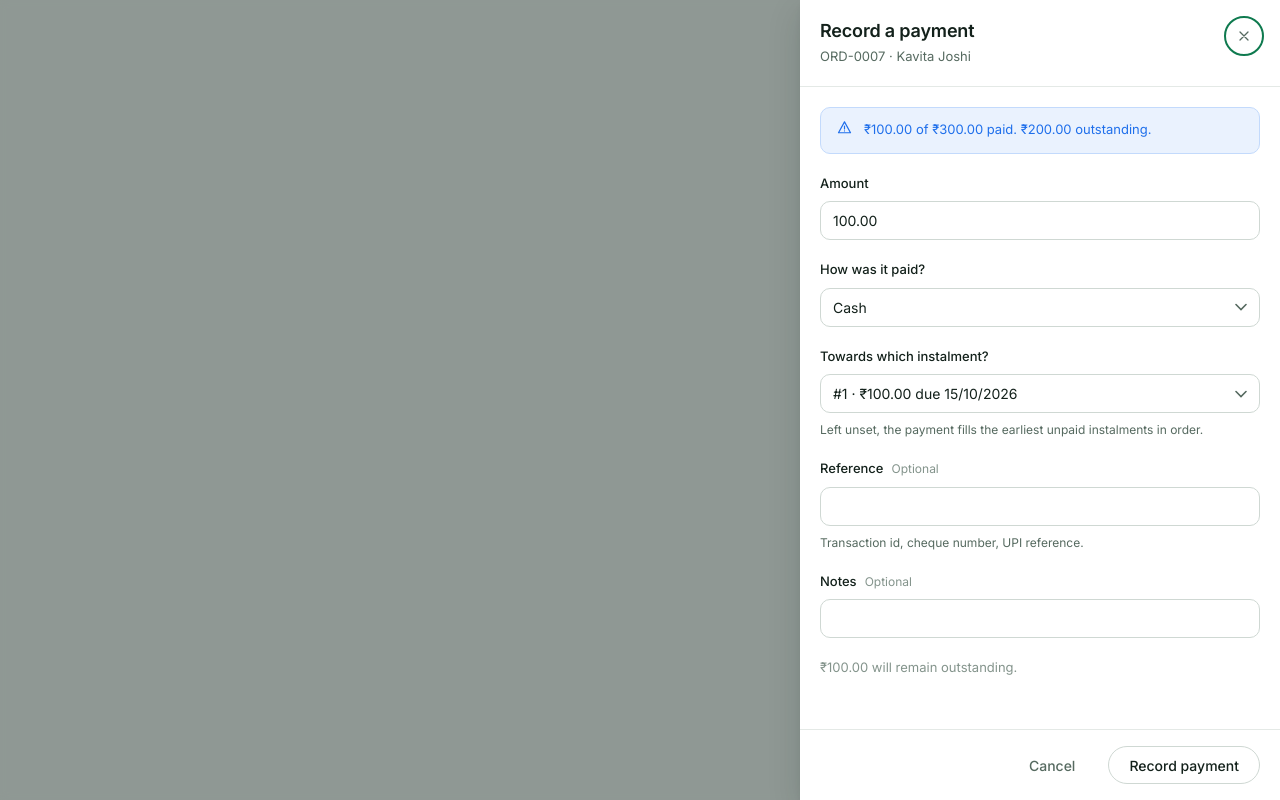
Scenario: OrderPaymentDrawer › warns when the amount exceeds what the chosen instalment owes
Replace the text in the field labelled "Amount" with "150" at (1040, 220), box [820,201,1260,240]
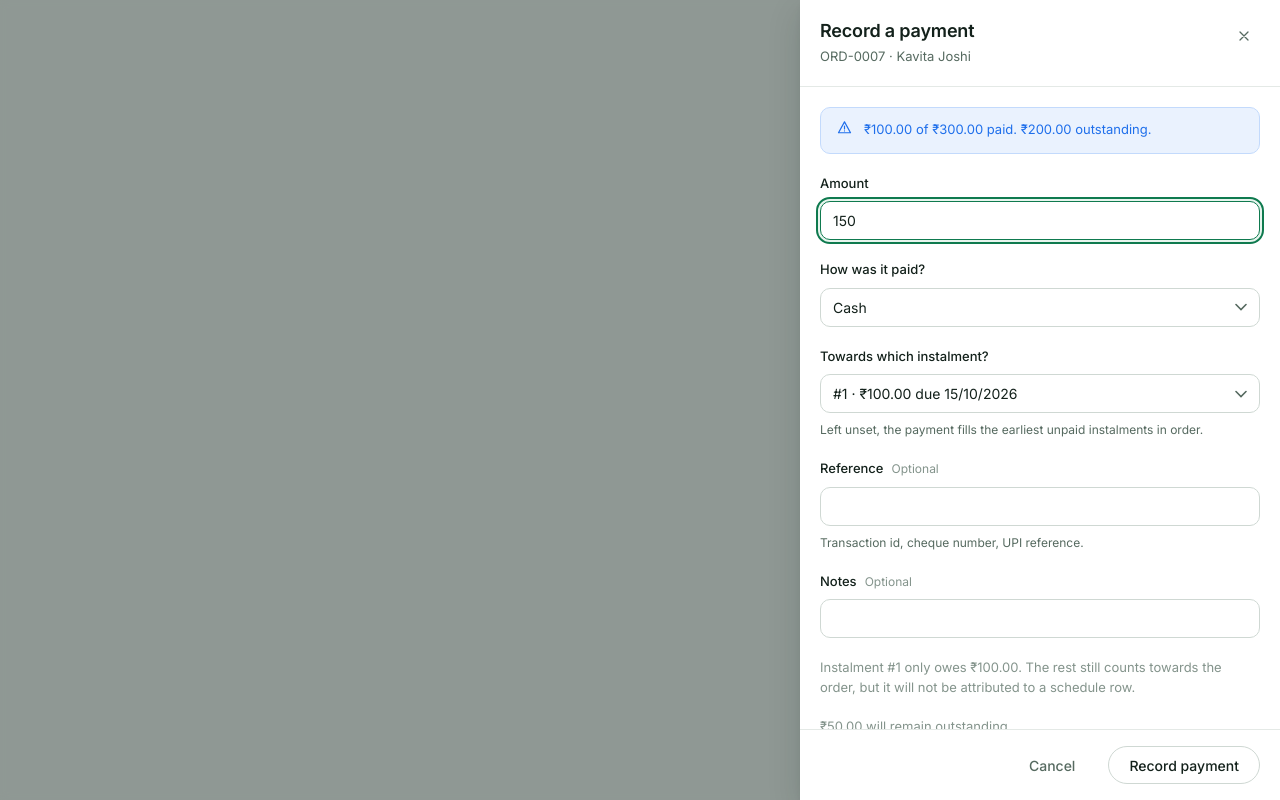
Expected: the text "only owes ₹100.00. The rest still counts towards the order" is shown, [820,658,1260,697]
